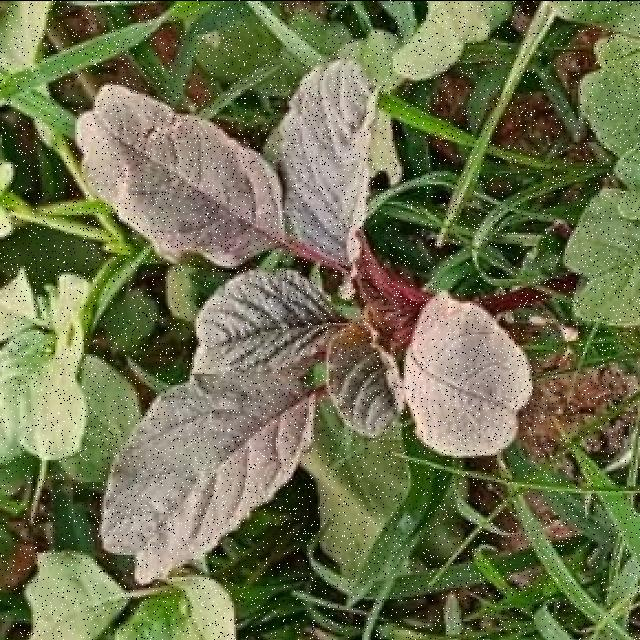plant: (76, 58, 531, 580)
